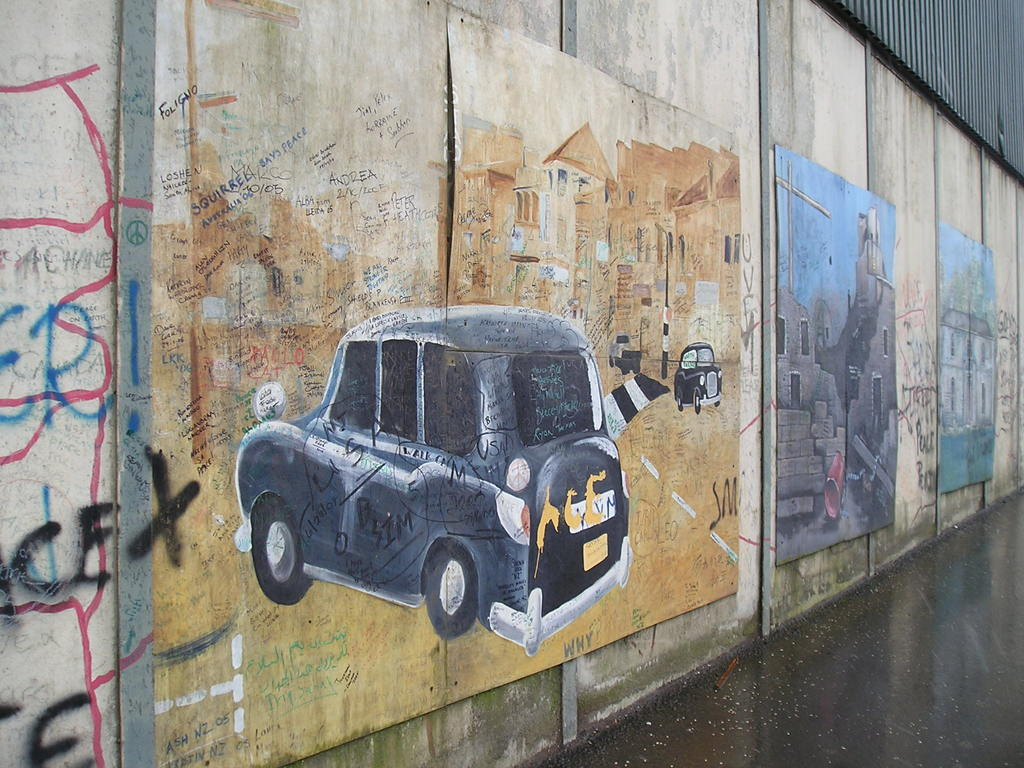Car: (227, 293, 652, 653), (670, 337, 720, 414)
